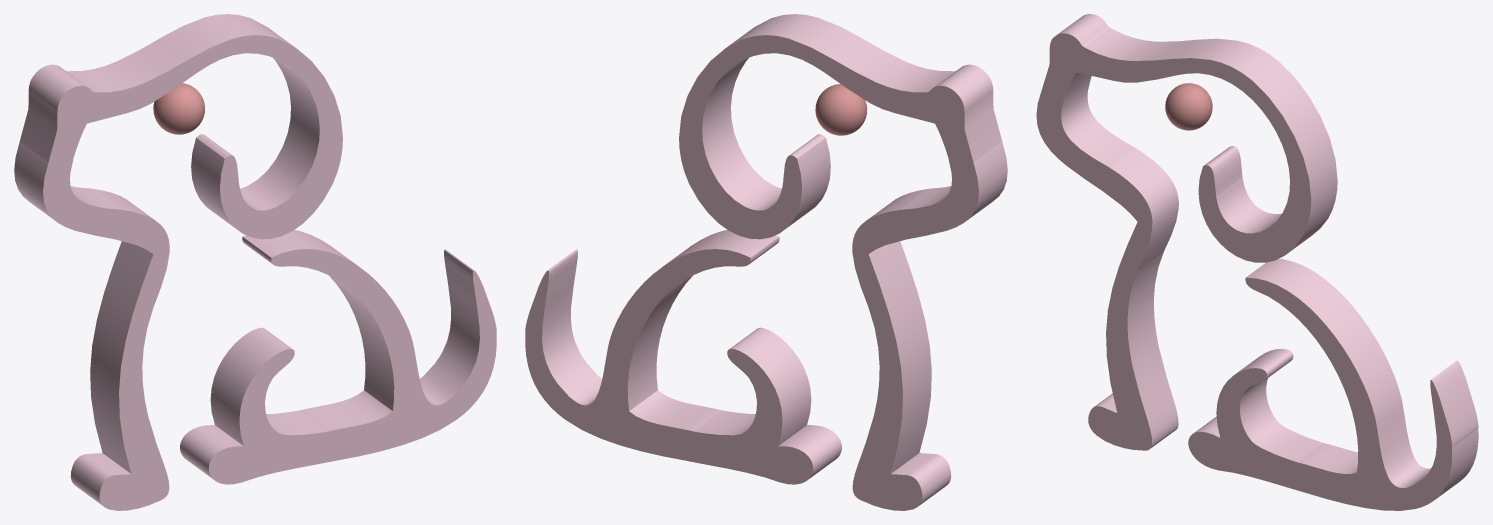
File: 2cubey-495d68a6.glb
The picture shows the model from 3 angles, left to right: view 1: azimuth 30°, elevation 25°; view 2: azimuth 150°, elevation 25°; view 3: azimuth 330°, elevation 25°; orthographic projection. The views are drawn at different scales.
Visible parts, largest first — view 1: 实体5, 实体6, 实体8; view 2: 实体5, 实体6, 实体8; view 3: 实体5, 实体6, 实体8.
Part boxes in pixels (<box>): 实体5: <box>14,14,342,510</box>; 实体6: <box>180,230,496,484</box>; 实体8: <box>153,83,204,134</box>; 实体5: <box>679,14,1007,510</box>; 实体6: <box>525,230,841,484</box>; 实体8: <box>815,84,867,135</box>; 实体5: <box>1036,14,1337,450</box>; 实体6: <box>1188,259,1478,510</box>; 实体8: <box>1165,83,1212,130</box>.
Size of the model in its own units: 3.64 by 3.44 by 0.4.
